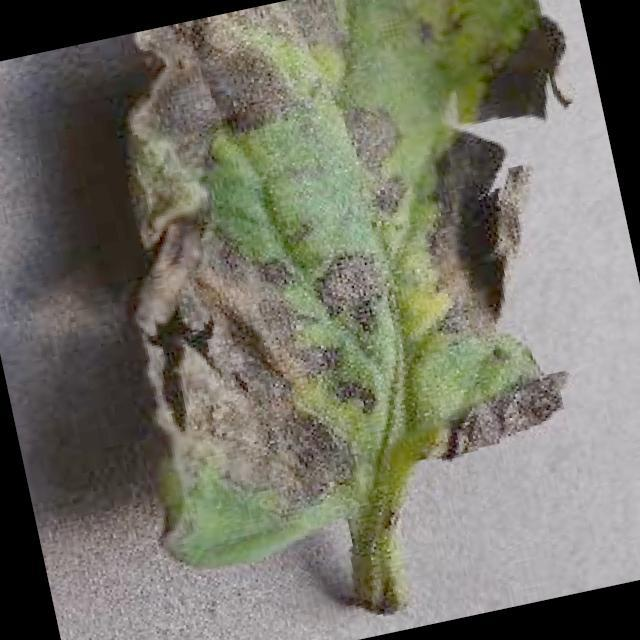Tomato Early blight leaf: (58, 0, 640, 565)
